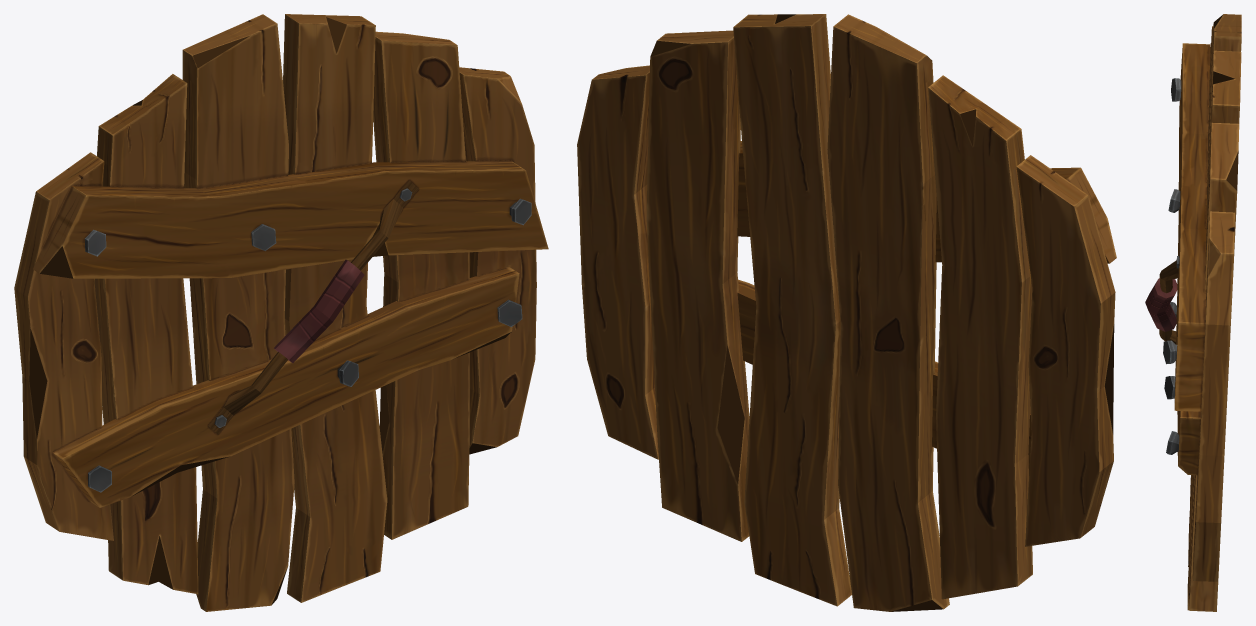
Rendered from Stylized_Shield.glb.
3 views of the same model, side by side, from view 1: azimuth 30°, elevation 25°; view 2: azimuth 150°, elevation 25°; view 3: azimuth 270°, elevation 25° (orthographic). The views are drawn at different scales.
Visible parts, largest first — view 1: shield6_shield6_0; view 2: shield6_shield6_0; view 3: shield6_shield6_0.
Part boxes in pixels (x1,y1,x2,y2): shield6_shield6_0: (14,14,548,611); shield6_shield6_0: (577,14,1116,611); shield6_shield6_0: (1145,14,1241,611).
Bounding box in the file's own units: 0.8316 × 0.8989 × 0.1443.
Materials: 1 (1 with a texture image).
